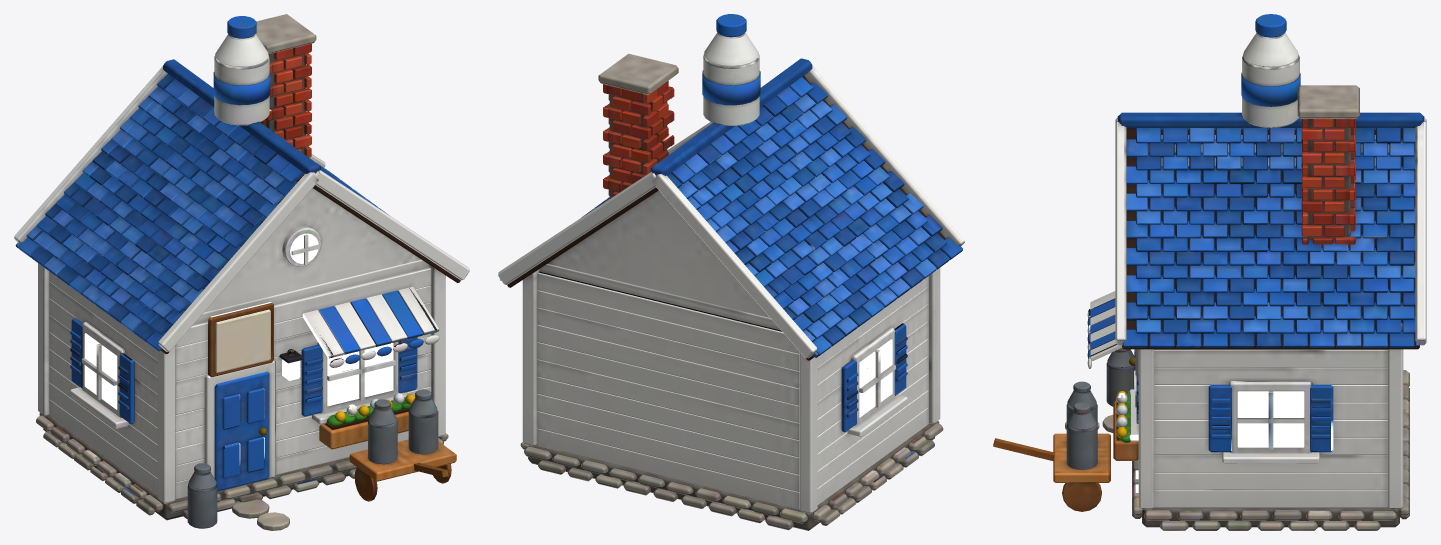
Rendered from dairy.glb.
3 views of the same model, side by side, from view 1: azimuth 30°, elevation 25°; view 2: azimuth 150°, elevation 25°; view 3: azimuth 270°, elevation 25° (orthographic). The views are drawn at different scales.
Parts seen in each view (by area): view 1: dairy; view 2: dairy; view 3: dairy.
Part boxes in pixels (x1,y1,x2,y2): dairy: (14, 14, 469, 530); dairy: (498, 14, 964, 530); dairy: (993, 14, 1426, 530).
Size of the model in its own units: 1.68 by 2.18 by 1.95.
Materials: 1 (1 with a texture image).
